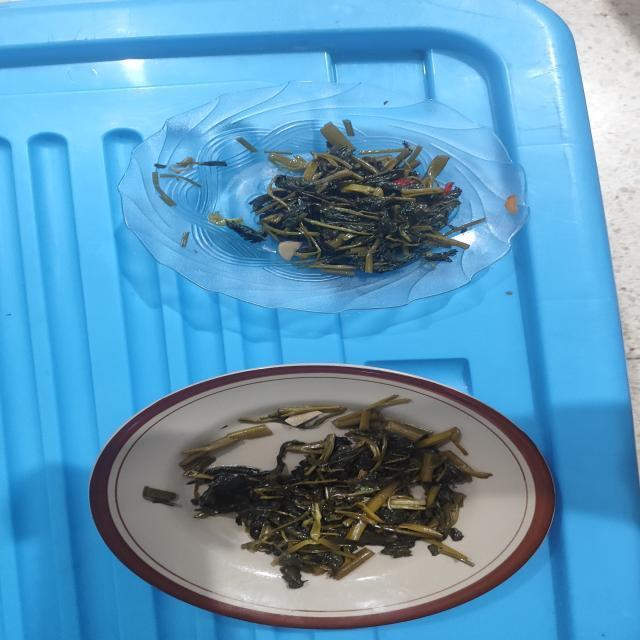tumis_kangkung: (181, 408, 489, 589), (208, 122, 484, 276)
